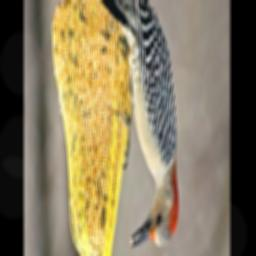Woodpecker: (83, 0, 192, 256)
